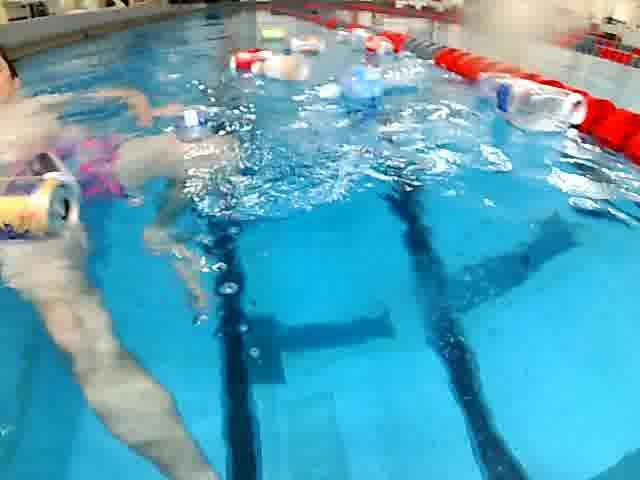Bottle: (474, 66, 581, 141), (312, 58, 431, 107)
Can: (0, 172, 88, 251), (282, 29, 332, 58), (226, 46, 275, 75), (255, 23, 290, 43)
